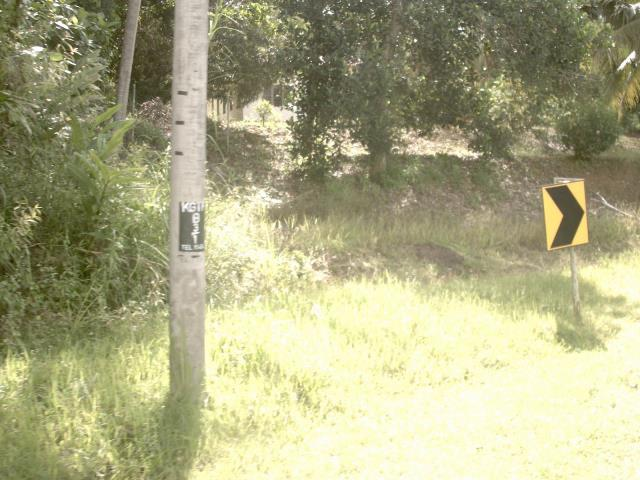traffic_sign: (534, 172, 596, 260)
